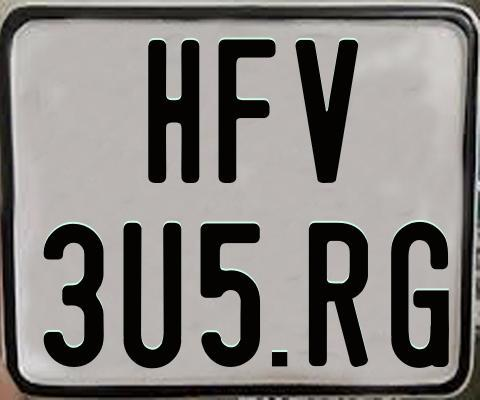3: (40, 224, 104, 372)
5: (199, 222, 263, 366)
F: (217, 39, 275, 186)
G: (391, 221, 453, 373)
H: (146, 38, 200, 184)
R: (308, 221, 371, 365)
U: (123, 220, 182, 370)
V: (293, 39, 356, 186)
